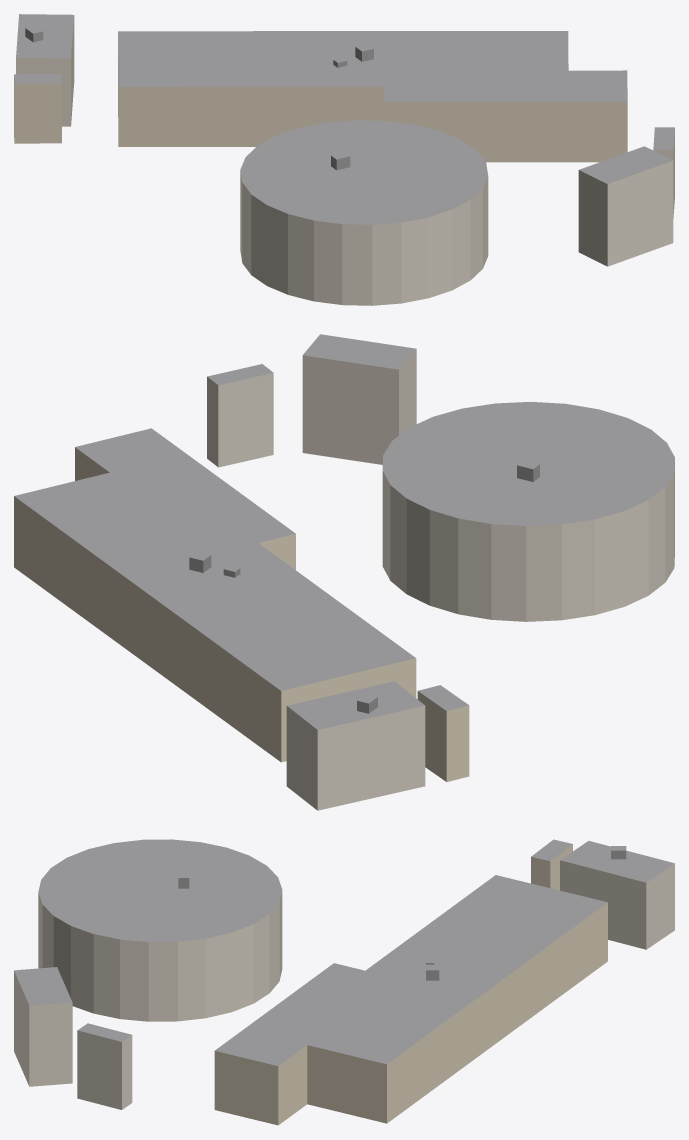
Rendered from building_3_1.glb.
The picture shows the model from 3 angles, top to bottom: view 1: azimuth 30°, elevation 25°; view 2: azimuth 150°, elevation 25°; view 3: azimuth 270°, elevation 25°; orthographic projection. The views are drawn at different scales.
Visible parts, largest first — view 1: roof, concrete_warm, sandstone; view 2: roof, concrete_warm, sandstone; view 3: roof, concrete_warm, sandstone.
Boxes of the visible parts, bbox=[...] form: roof: bbox=[14, 14, 674, 224]; concrete_warm: bbox=[16, 15, 674, 305]; sandstone: bbox=[14, 57, 627, 162]; roof: bbox=[14, 334, 674, 729]; concrete_warm: bbox=[207, 349, 674, 810]; sandstone: bbox=[14, 447, 469, 781]; roof: bbox=[14, 839, 674, 1066]; concrete_warm: bbox=[14, 860, 674, 1109]; sandstone: bbox=[214, 844, 607, 1125].
Size of the model in its own units: 81.56 by 15.11 by 100.
